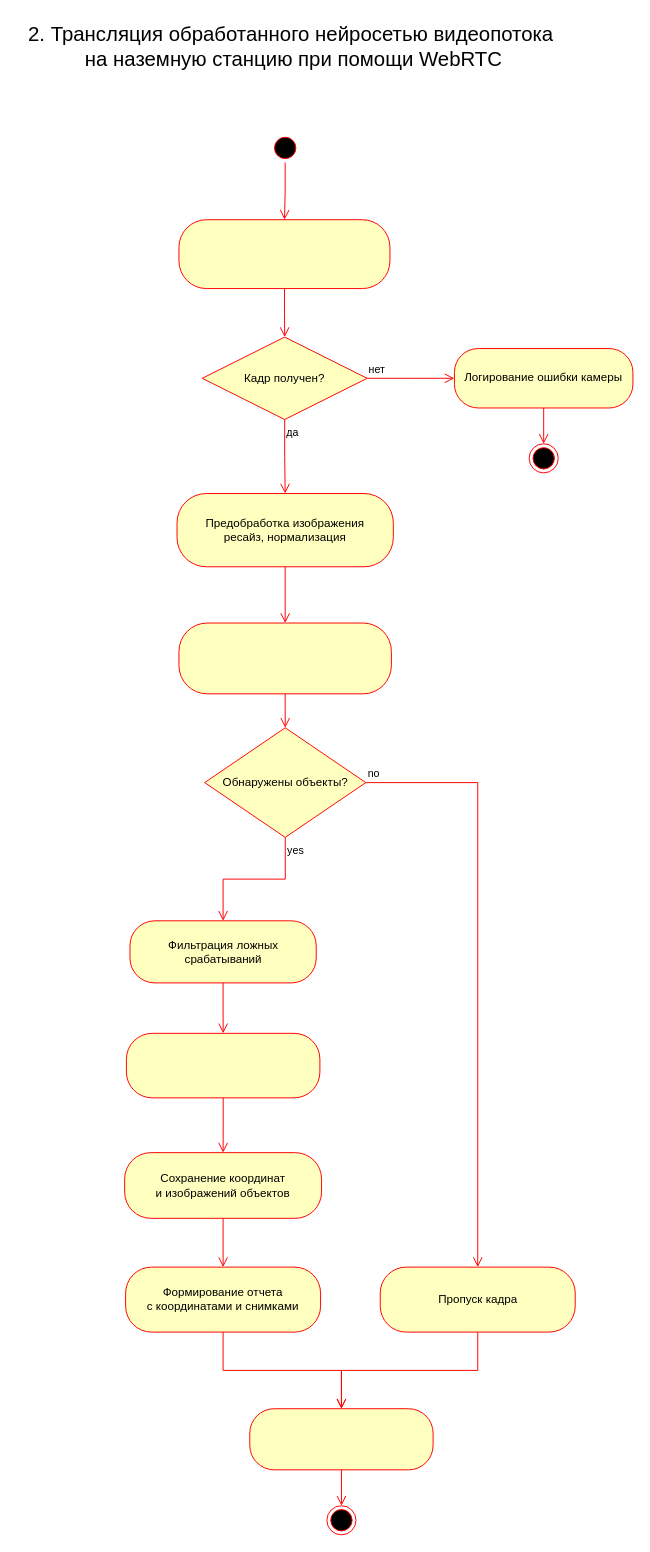
This 650x1552 diagram has some shape labels left out. The box of each missing label's shape, as (x1, y1, x2, y2) in pixels:
Запуск нейросети YOLO/SSD для детекции: (178, 622, 391, 694)
Классификация объектов интересующие/неинтересующие: (125, 1032, 320, 1098)
Отправка данных на наземную станцию: (249, 1408, 433, 1470)
Получение кадра из видеопотока камеры: (178, 219, 390, 289)
